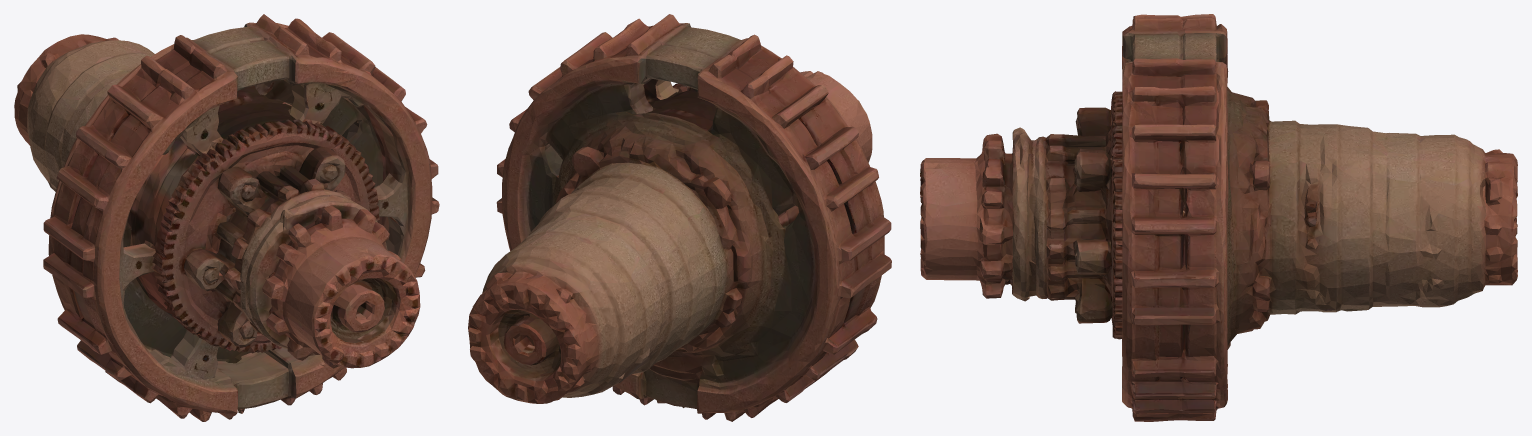
Rendered from head (288).glb.
3 renders of one model, left to right at view 1: azimuth 30°, elevation 25°; view 2: azimuth 150°, elevation 25°; view 3: azimuth 270°, elevation 25°, orthographic.
Visible parts, largest first — view 1: Hy21_Mesh.obj; view 2: Hy21_Mesh.obj; view 3: Hy21_Mesh.obj.
Boxes of the visible parts, <box> form: Hy21_Mesh.obj: <box>14,14,439,421</box>; Hy21_Mesh.obj: <box>468,14,891,421</box>; Hy21_Mesh.obj: <box>920,14,1517,421</box>.
Bounding box in the file's own units: 1.35 × 1.29 × 1.96.
1 material, 1 textured.
